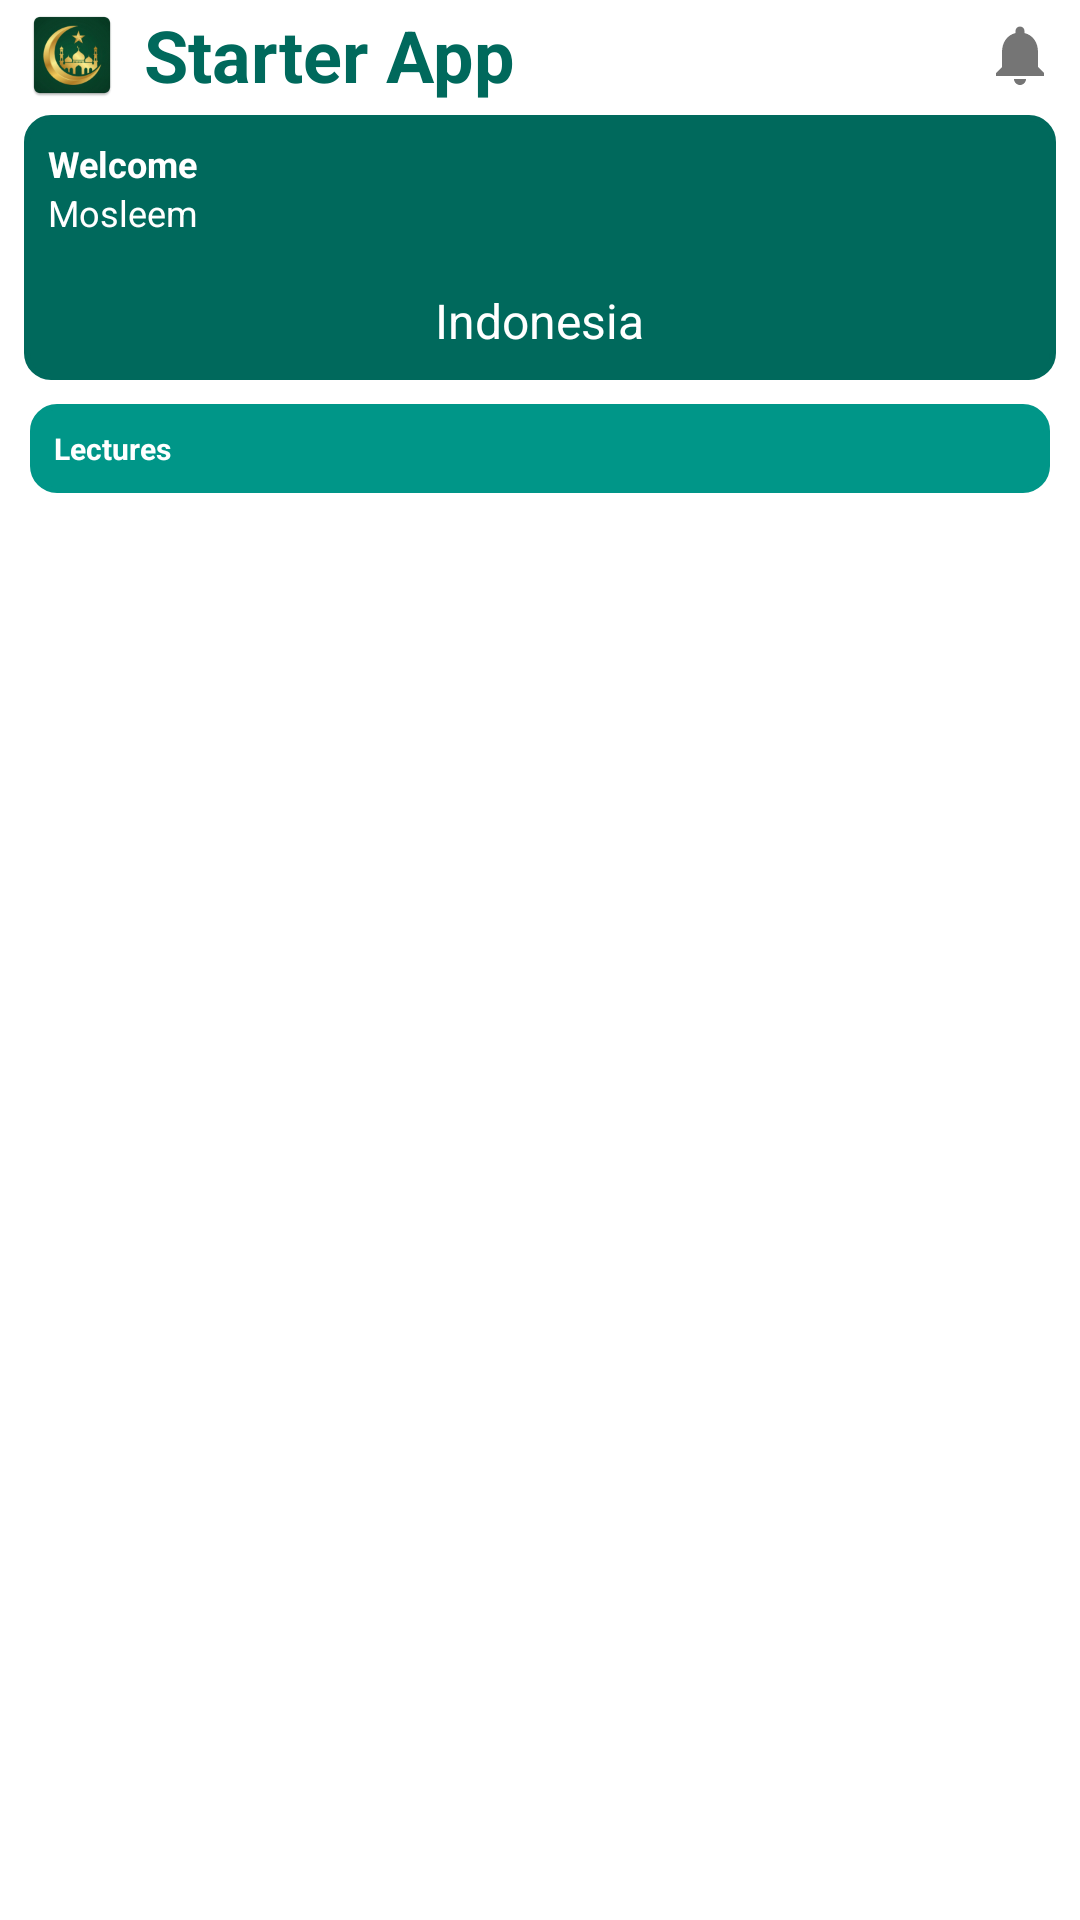

Where to tap for icons on this 1080x1920 app screen, as (x,y):
Notifications: (1020,55)
